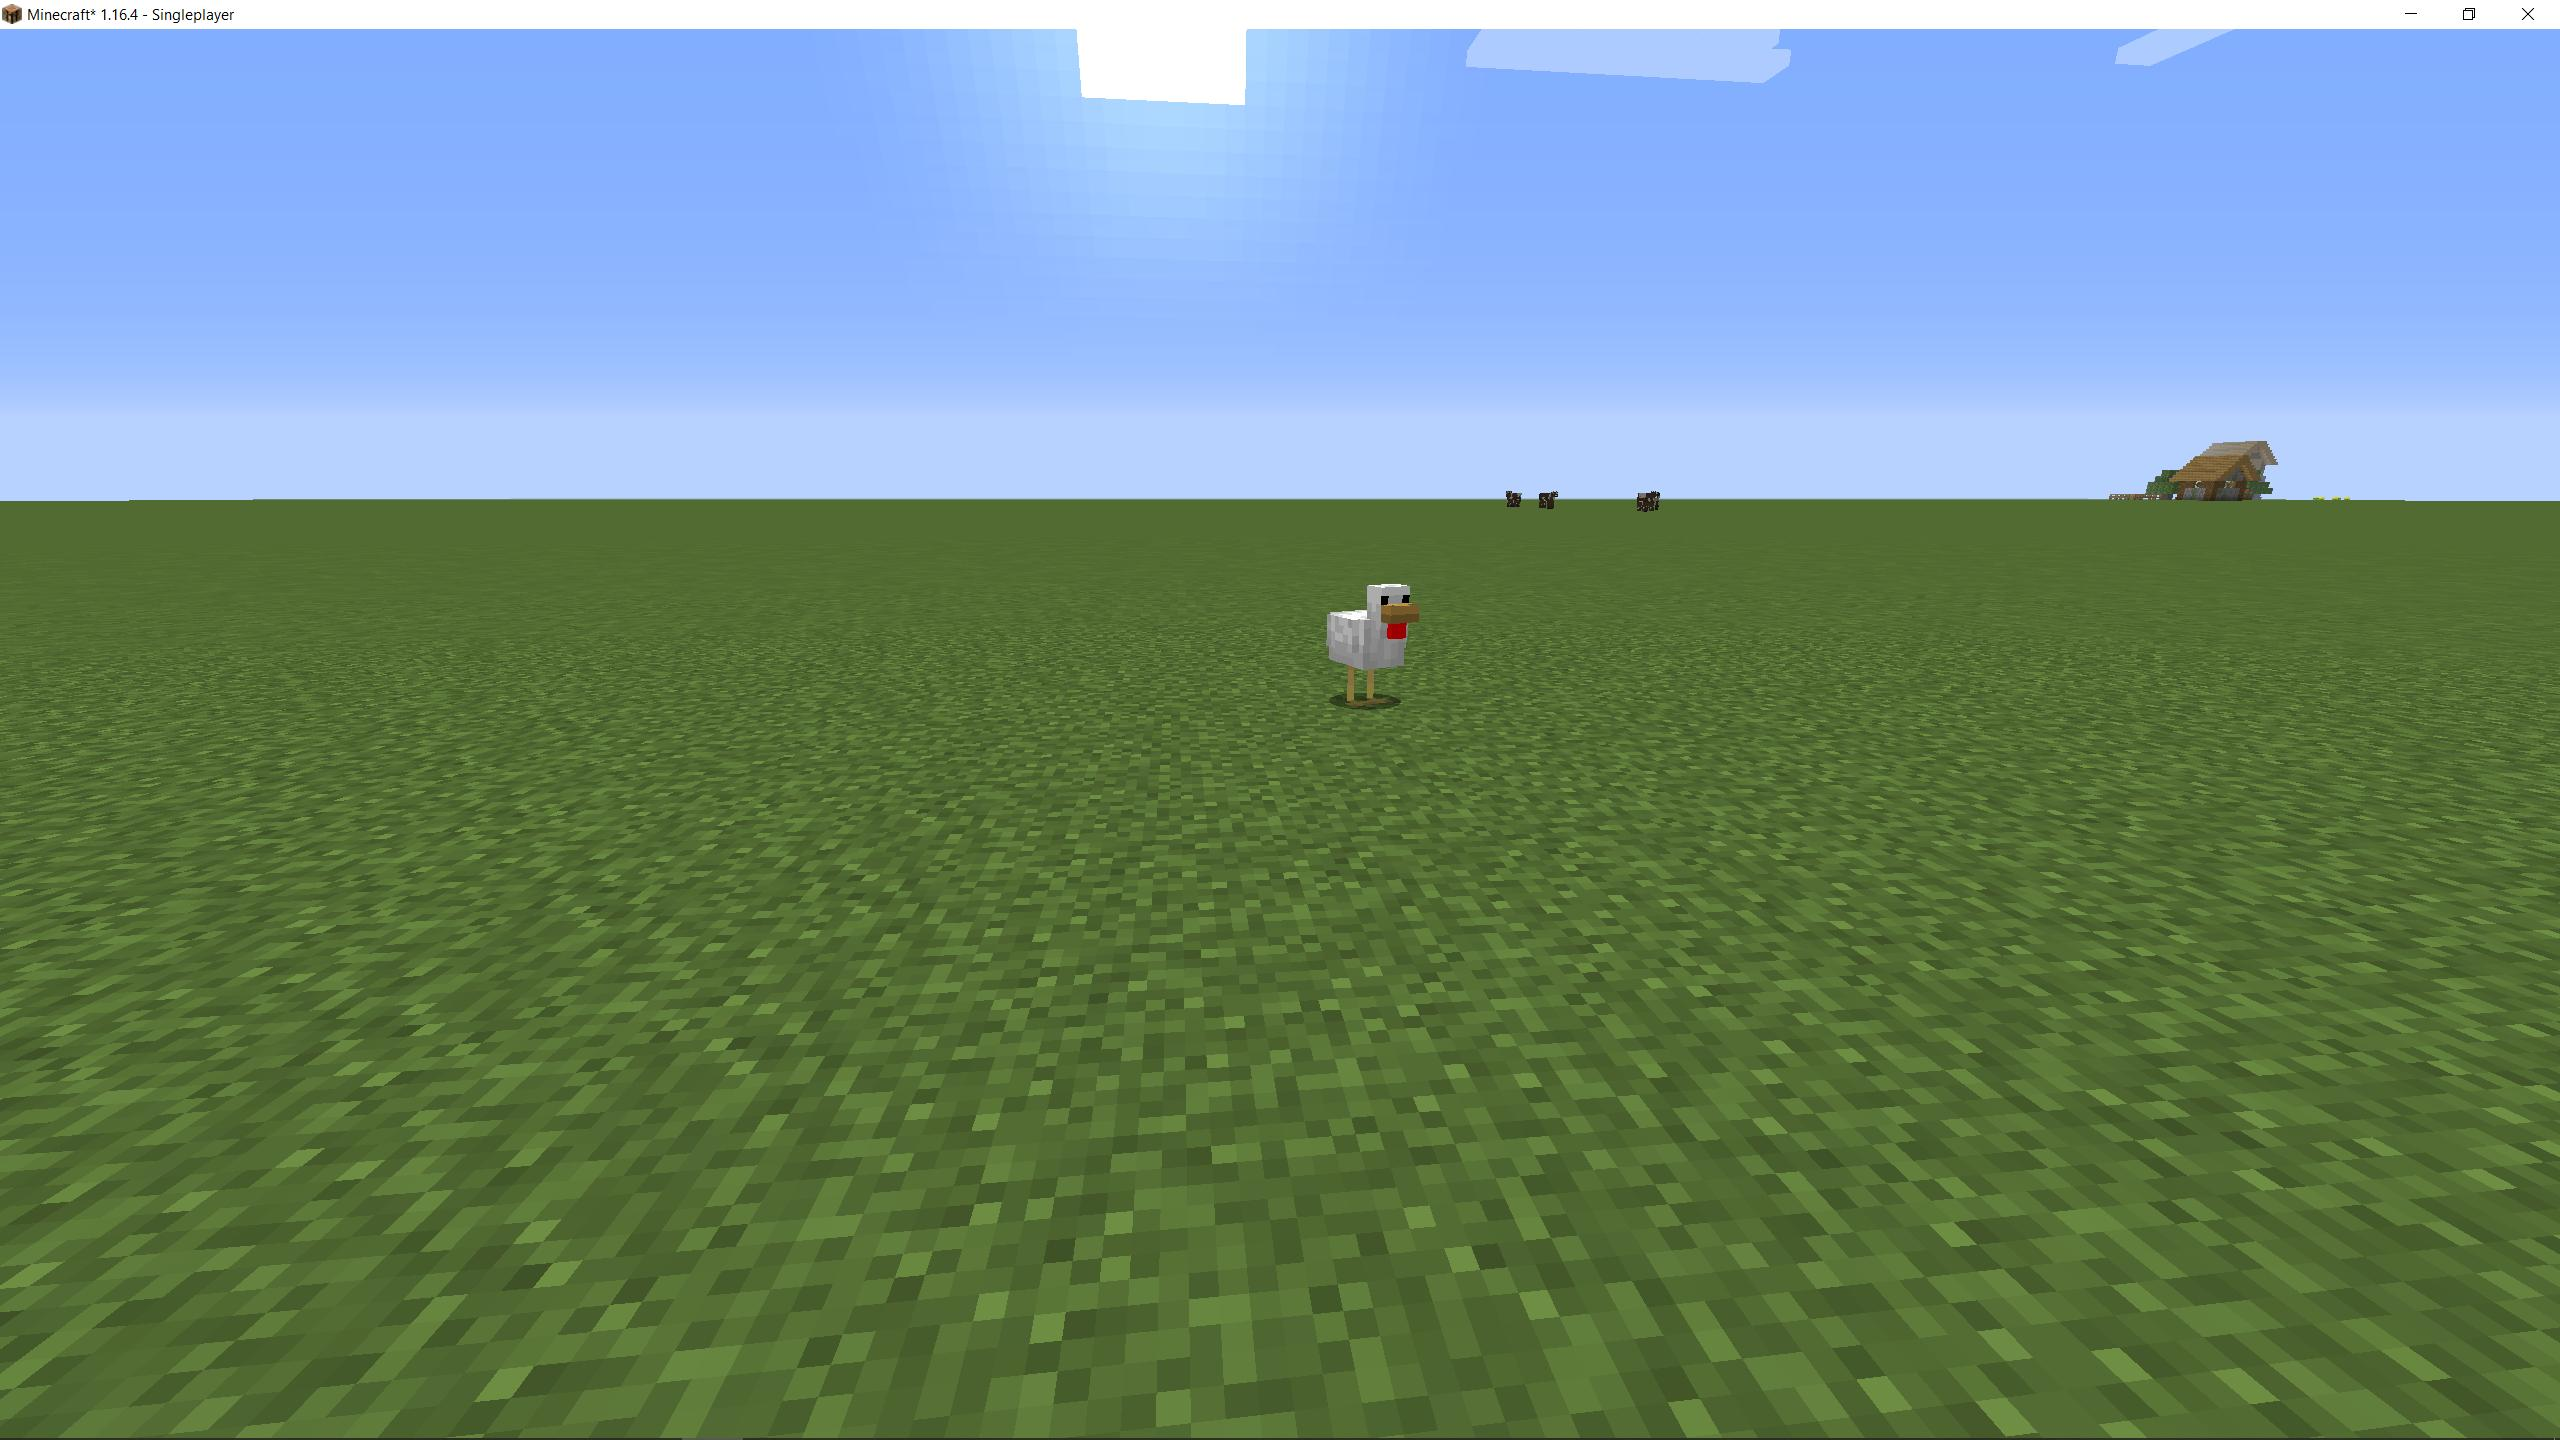chicken: (1315, 571, 1428, 712)
